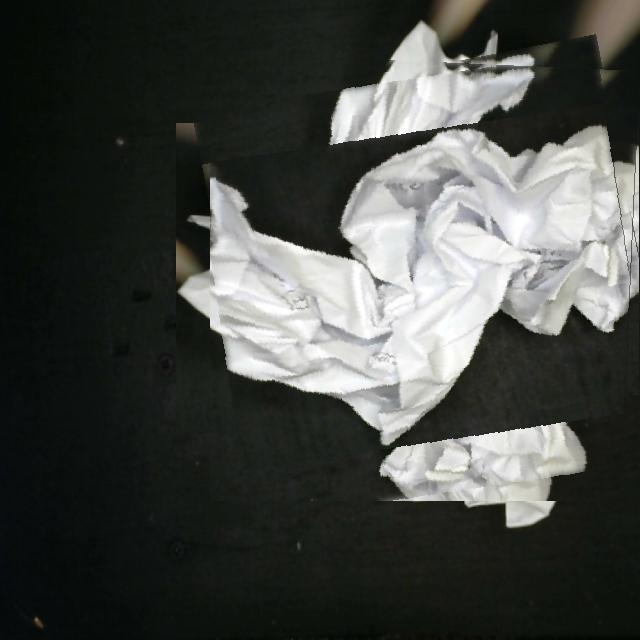biodegradable: (210, 52, 640, 501)
